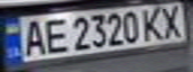0: (121, 8, 142, 44)
2: (69, 14, 93, 52), (106, 10, 127, 46)
3: (87, 11, 109, 48)
A: (18, 17, 51, 57)
E: (39, 16, 69, 55)
K: (139, 6, 169, 40)
X: (157, 2, 187, 38)
